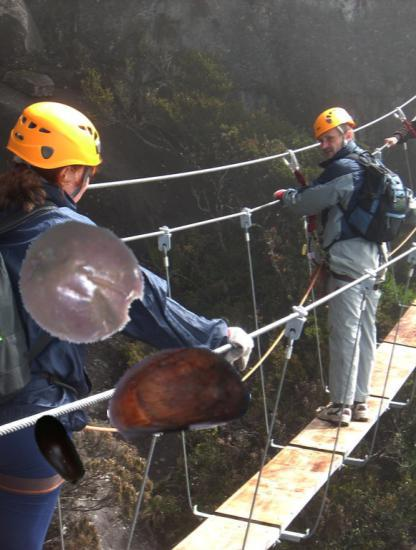Chestnut: (105, 317, 251, 463)
Eggplant: (19, 411, 99, 491)
Passion: (16, 218, 147, 349)
